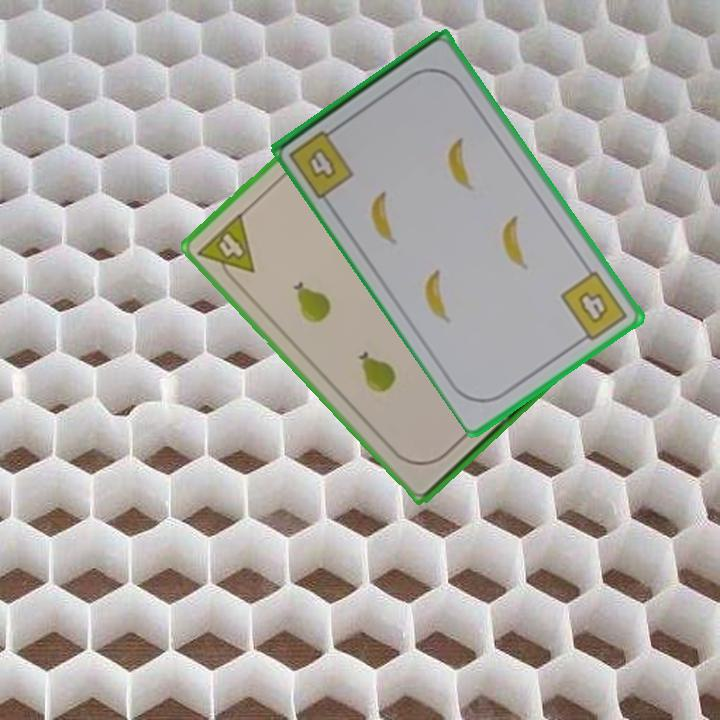4b: (557, 267, 631, 347), (285, 121, 357, 201)
4p: (194, 209, 258, 290)
